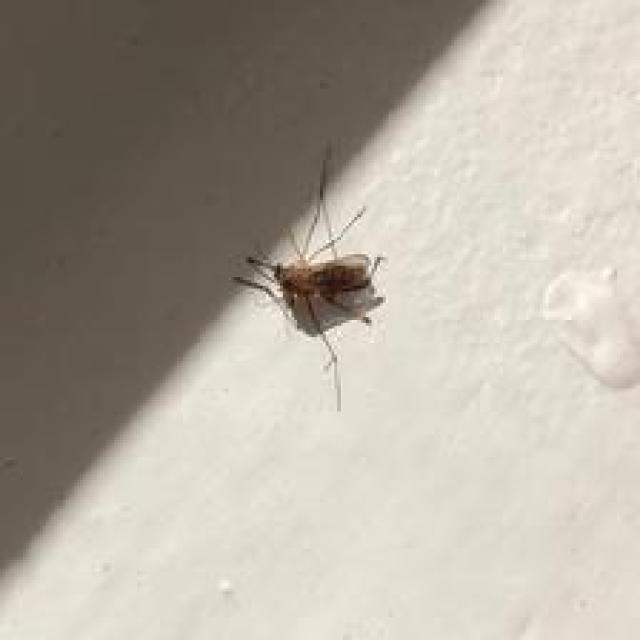Culex: (232, 153, 388, 410)
